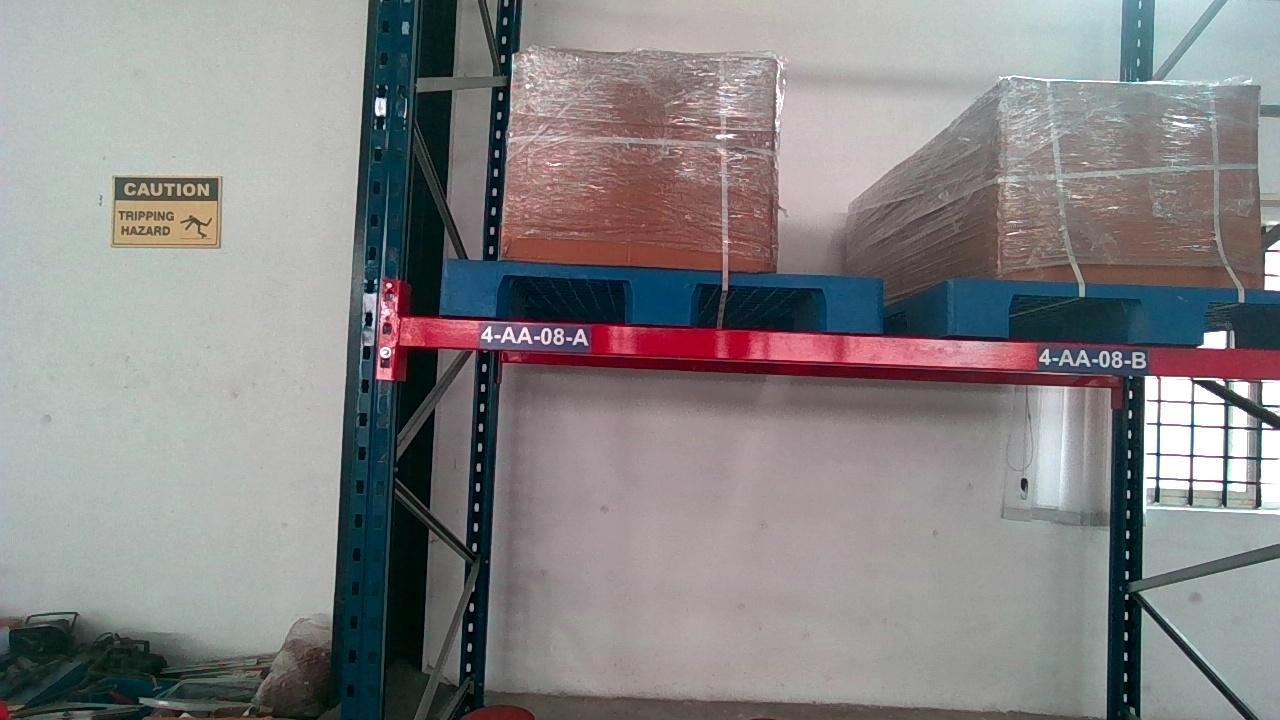h_rack: (414, 324, 1280, 375)
small_pallet: (439, 262, 884, 327), (948, 279, 1280, 341)
